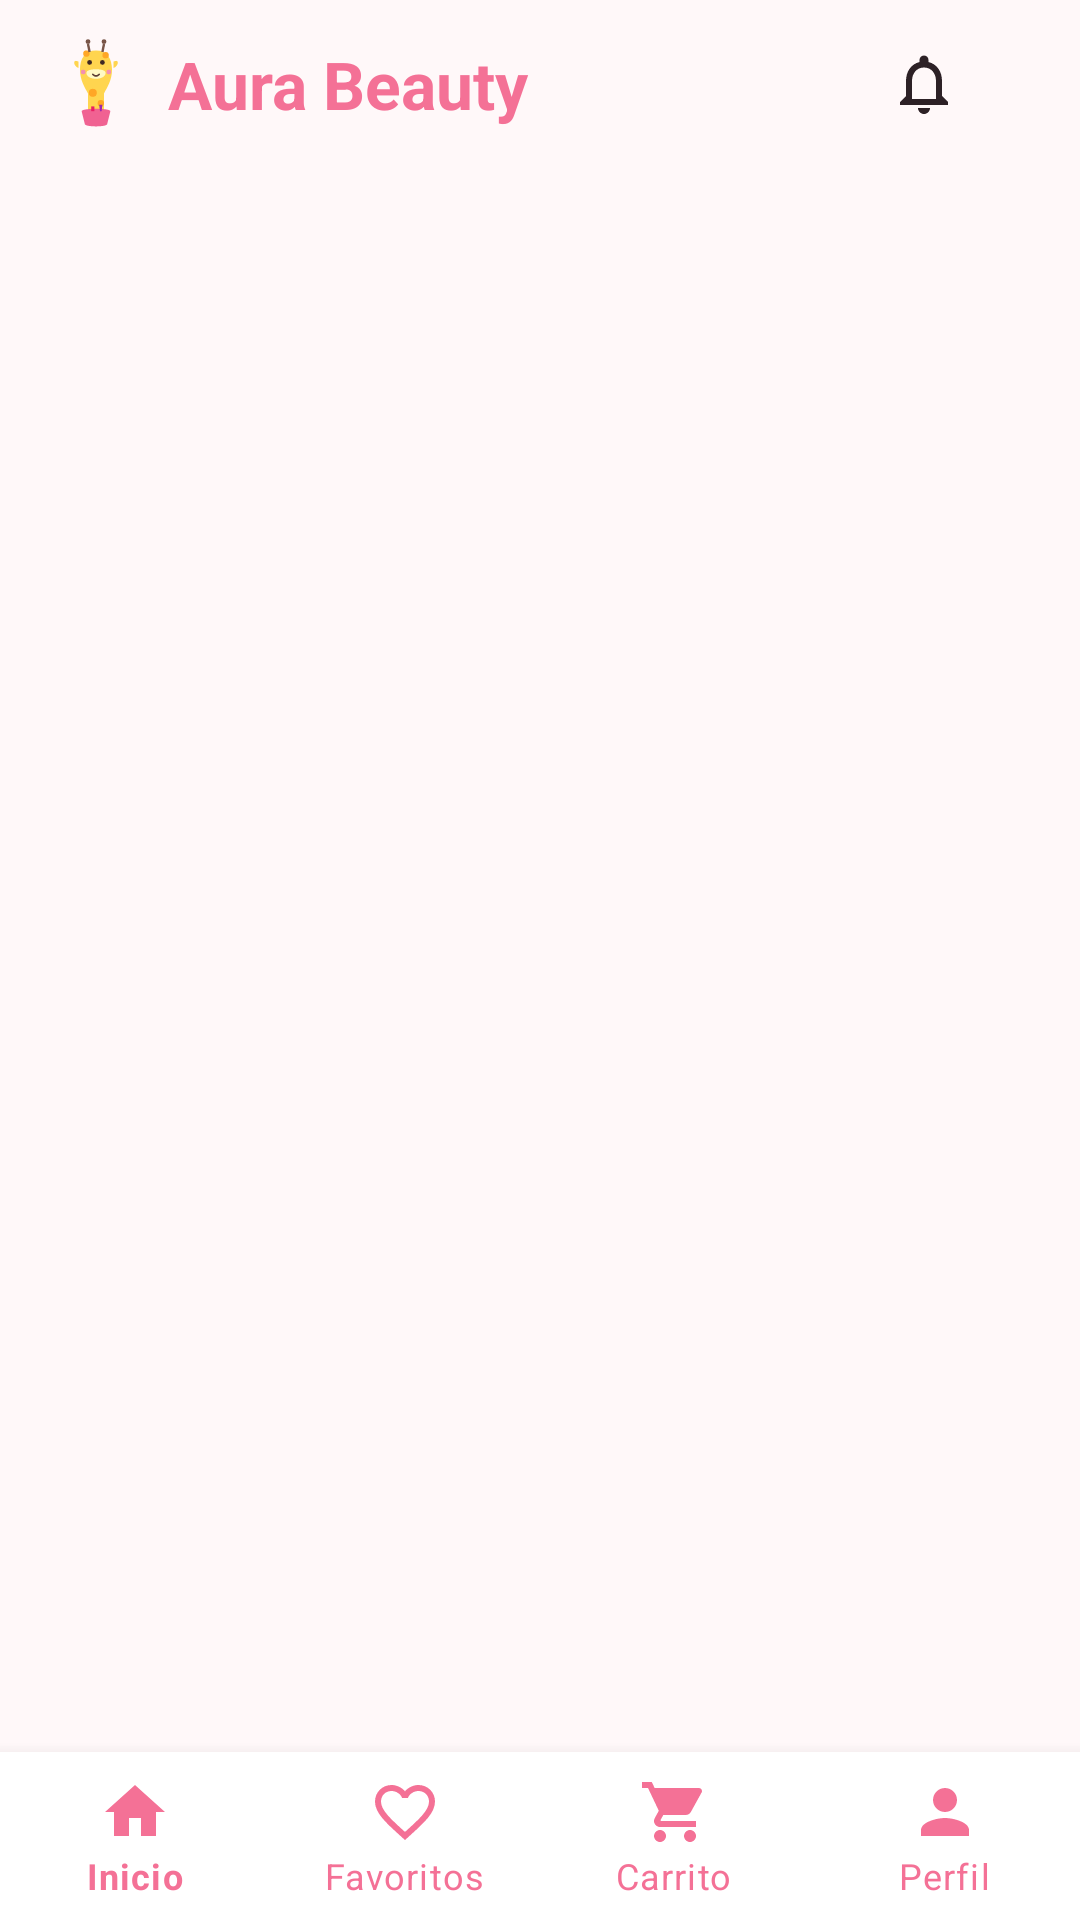

Named icons in this screenshot (1080w x 1920h) and their centers, [x,y]:
giraffe mascot: [96,83]
Notificaciones: [924,84]
